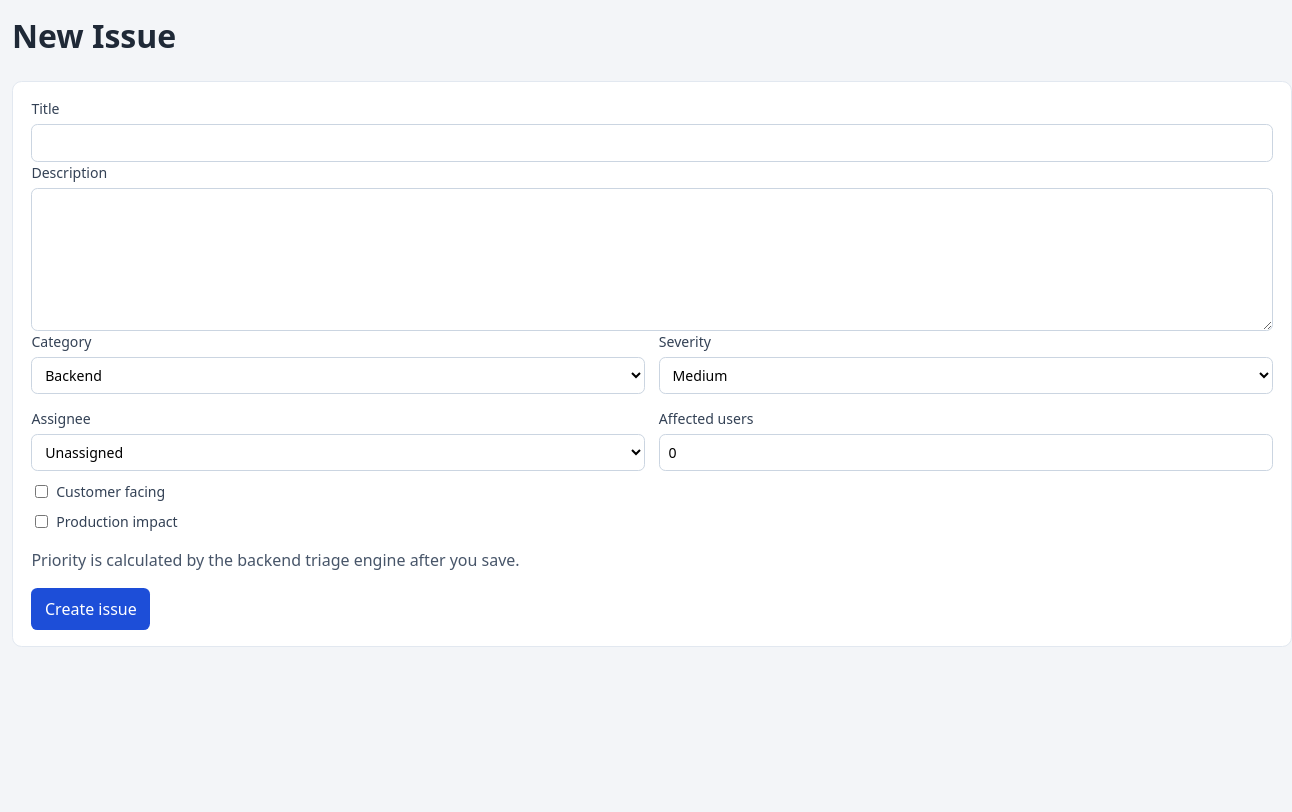
Test: CreateIssuePage › shows an error when create fails
Type "Checkout API returning intermittent 500 responses" into the field labelled "Title" at (652, 143), box x1=31 y1=124 x2=1273 y2=162
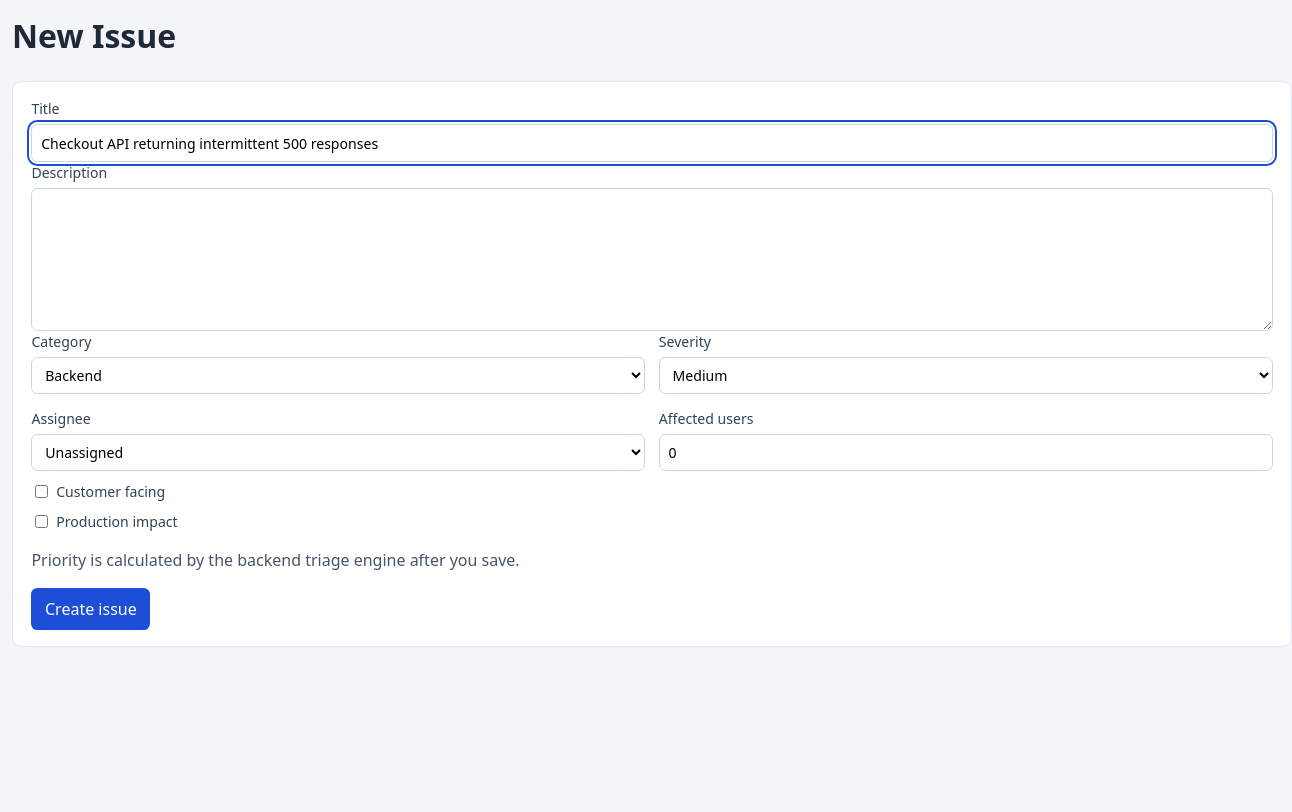
Type "Customers receive an internal server error during payment confirmation." into the text box labelled "Description" at (652, 259), box x1=31 y1=188 x2=1273 y2=331
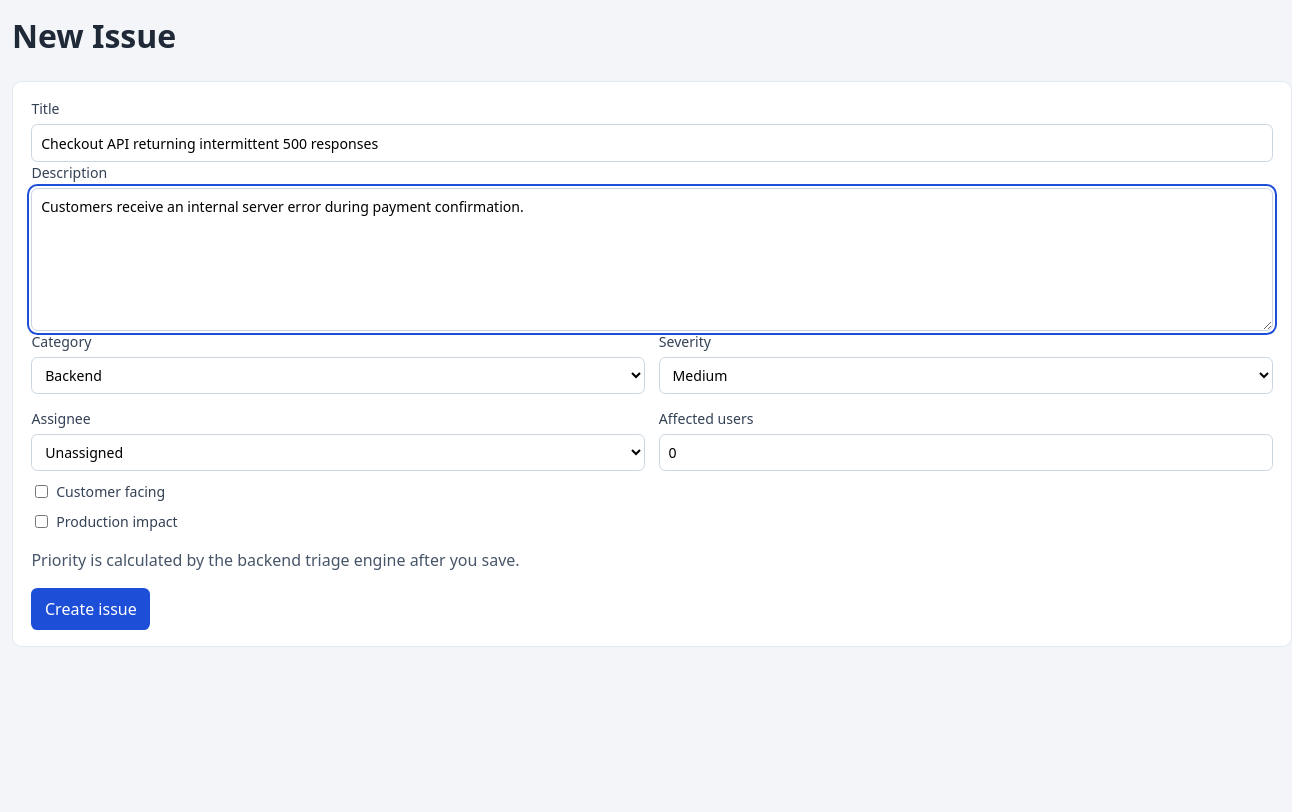
Click the button "Create issue" at (91, 609), box x1=31 y1=588 x2=150 y2=630
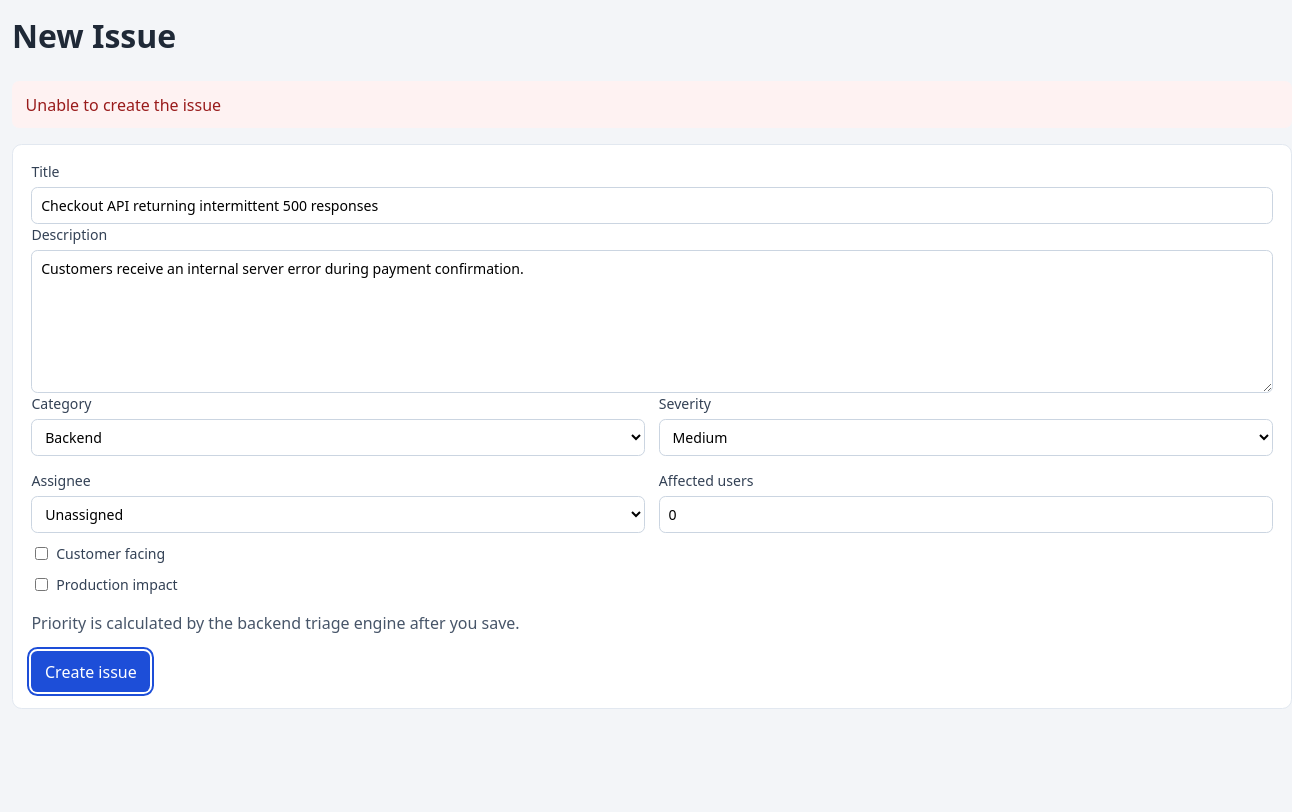
Result: the message reads "Unable to create the issue" at x1=26 y1=94 x2=221 y2=116
